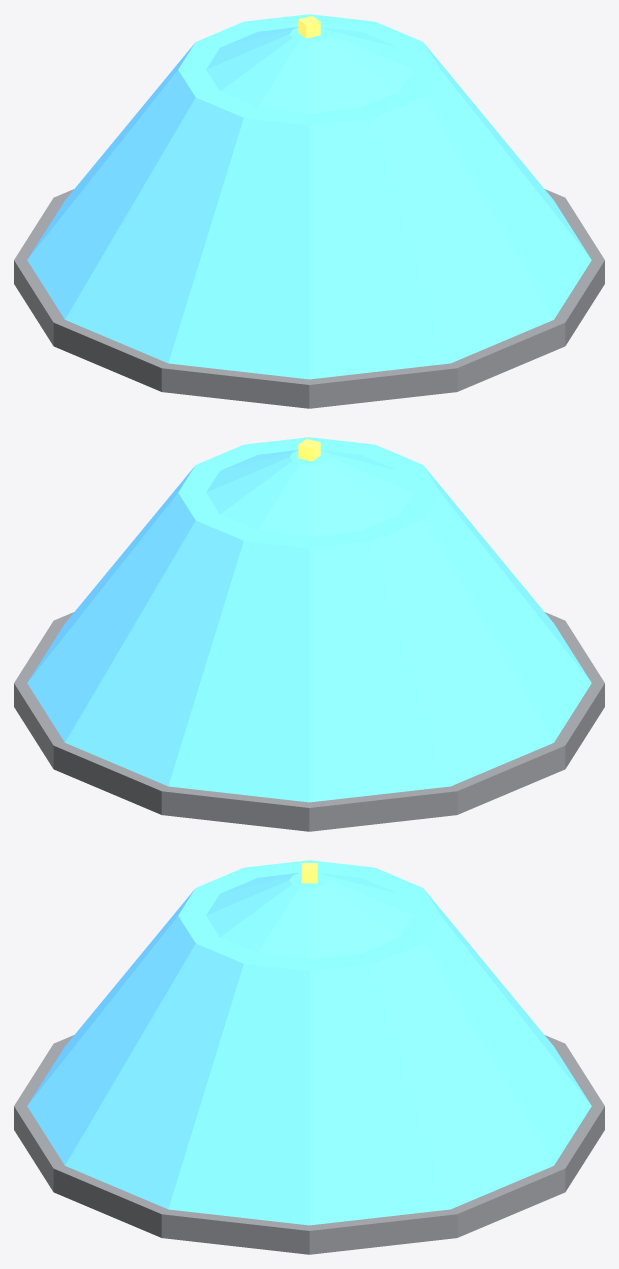
File: Dome.glb
3 views of the same model, one above another, from view 1: azimuth 30°, elevation 25°; view 2: azimuth 150°, elevation 25°; view 3: azimuth 270°, elevation 25° (orthographic).
Visible parts, largest first — view 1: Dome; view 2: Dome; view 3: Dome.
Boxes of the visible parts, box(x1,y1,x2,y2) form: Dome: box(14, 14, 604, 408); Dome: box(14, 437, 604, 831); Dome: box(14, 860, 604, 1254).
Size of the model in its own units: 18 by 8.85 by 18.
